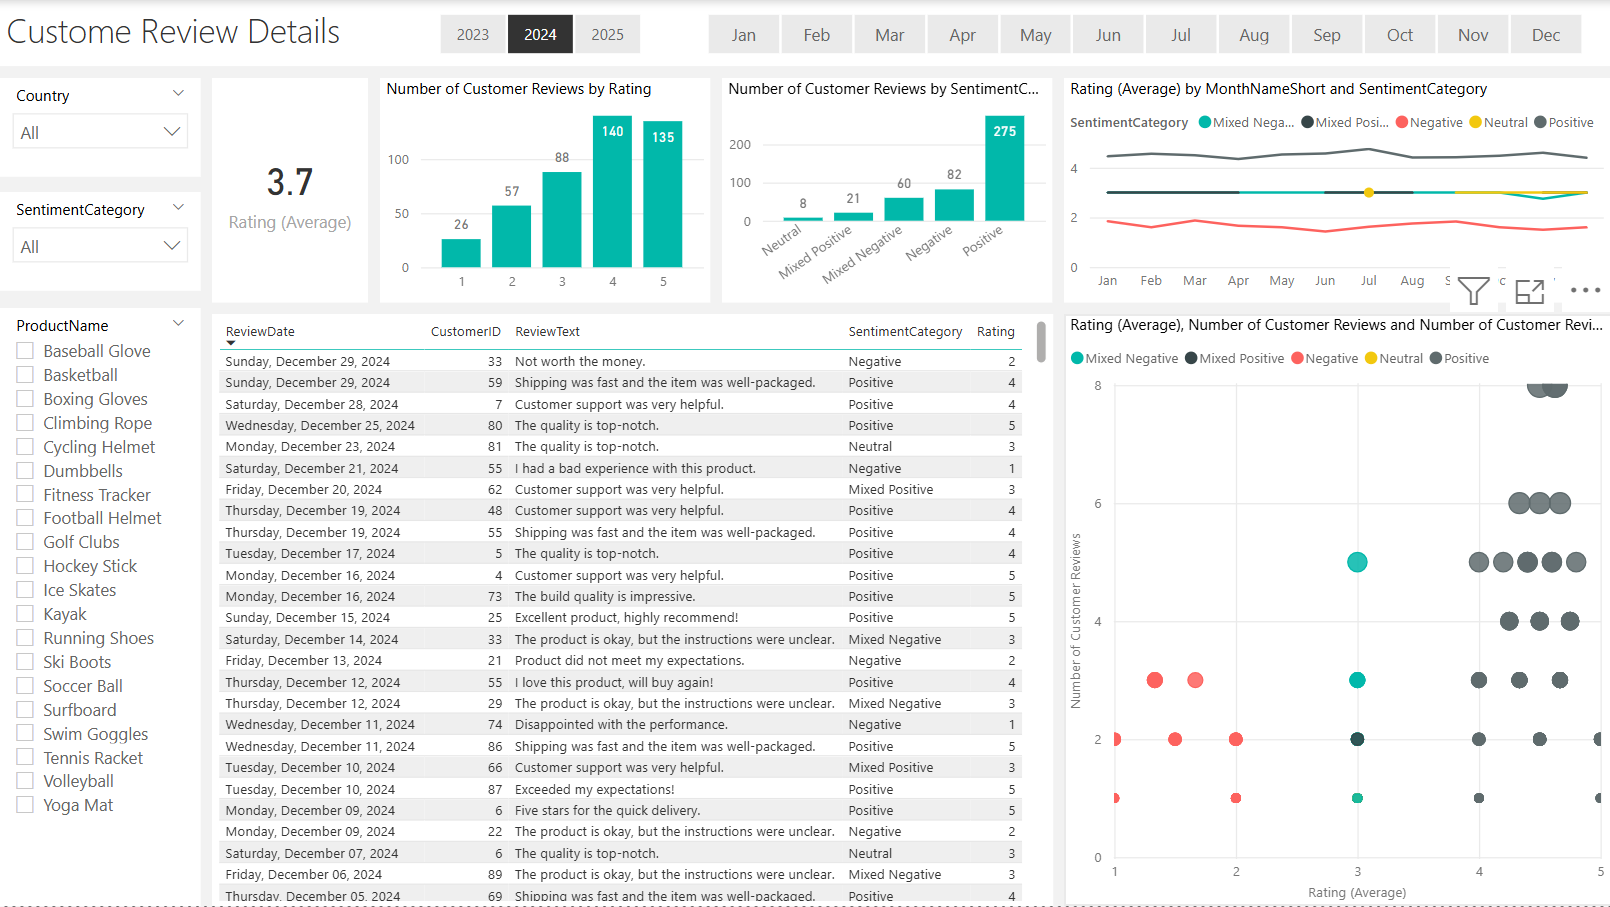

This screenshot's page, from the dashboard's own definition file:
{"tool":"powerbi","page":{"name":"Customer Review Details","canvas":[1280,720],"ordinal":3},"visuals":[{"type":"textbox","box":[0,0,1280,52.6],"z":0},{"type":"slicer","fields":{"Values":["dim_products.ProductName"]},"box":[0,244.2,159.3,475.3],"z":1000},{"type":"card","fields":{"Values":["_Calculations.Rating (Average)"]},"box":[168.5,61.9,123.8,178.5],"z":2000},{"type":"slicer","fields":{"Values":["Calendar.MonthNameShort"]},"box":[536.8,4.1,743.2,44.4],"z":3000},{"type":"lineChart","fields":{"Category":["Calendar.MonthNameShort"],"Y":["_Calculations.Rating (Average)"],"Series":["fact_customer_reviews_with_sentiment.SentimentCategory"]},"box":[846.2,62,434.1,178.4],"z":4000},{"type":"slicer","fields":{"Values":["Calendar.Year"]},"box":[324.1,4.1,208.5,44.4],"z":5000},{"type":"tableEx","fields":{"Values":["fact_customer_reviews_with_sentiment.ReviewDate","fact_customer_reviews_with_sentiment.CustomerID","fact_customer_reviews_with_sentiment.ReviewText","fact_customer_reviews_with_sentiment.SentimentCategory","Sum(fact_customer_reviews_with_sentiment.Rating)"]},"box":[168.5,249.5,668.4,470.8],"z":6000},{"type":"columnChart","fields":{"Category":["fact_customer_reviews_with_sentiment.Rating"],"Y":["_Calculations.Number of Customer Reviews"]},"box":[302.4,62,262.4,178.4],"z":7000},{"type":"columnChart","fields":{"Category":["fact_customer_reviews_with_sentiment.SentimentCategory"],"Y":["_Calculations.Number of Customer Reviews"]},"box":[574.3,62,262.4,178.4],"z":8000},{"type":"slicer","fields":{"Values":["dim_customers.Country"]},"box":[0,61.4,159.3,78.3],"z":9000},{"type":"slicer","fields":{"Values":["fact_customer_reviews_with_sentiment.SentimentCategory"]},"box":[0,152.8,159.3,78.3],"z":10000},{"type":"scatterChart","fields":{"Category":["dim_customers.CustomerID"],"Series":["fact_customer_reviews_with_sentiment.SentimentCategory"],"X":["_Calculations.Rating (Average)"],"Y":["_Calculations.Number of Customer Reviews"],"Size":["_Calculations.Number of Customer Reviews"]},"box":[846,249.5,434.4,470.8],"z":11000}]}

Visuals, with their boxes in screenshot pixels (x1, y1, x2, y2), scaled from the page's 1280x720 canvas onto the 1610x907 screenshot:
textbox: (x1=0, y1=0, x2=1609, y2=66)
slicer - dim_products.ProductName: (x1=0, y1=308, x2=200, y2=906)
card - _Calculations.Rating (Average): (x1=212, y1=78, x2=368, y2=303)
slicer - Calendar.MonthNameShort: (x1=675, y1=5, x2=1609, y2=61)
lineChart - Calendar.MonthNameShort x _Calculations.Rating (Average): (x1=1064, y1=78, x2=1609, y2=303)
slicer - Calendar.Year: (x1=408, y1=5, x2=670, y2=61)
tableEx - fact_customer_reviews_with_sentiment.ReviewDate x fact_customer_reviews_with_sentiment.CustomerID: (x1=212, y1=314, x2=1053, y2=906)
columnChart - fact_customer_reviews_with_sentiment.Rating x _Calculations.Number of Customer Reviews: (x1=380, y1=78, x2=710, y2=303)
columnChart - fact_customer_reviews_with_sentiment.SentimentCategory x _Calculations.Number of Customer Reviews: (x1=722, y1=78, x2=1052, y2=303)
slicer - dim_customers.Country: (x1=0, y1=77, x2=200, y2=176)
slicer - fact_customer_reviews_with_sentiment.SentimentCategory: (x1=0, y1=192, x2=200, y2=291)
scatterChart - dim_customers.CustomerID x fact_customer_reviews_with_sentiment.SentimentCategory: (x1=1064, y1=314, x2=1609, y2=906)
